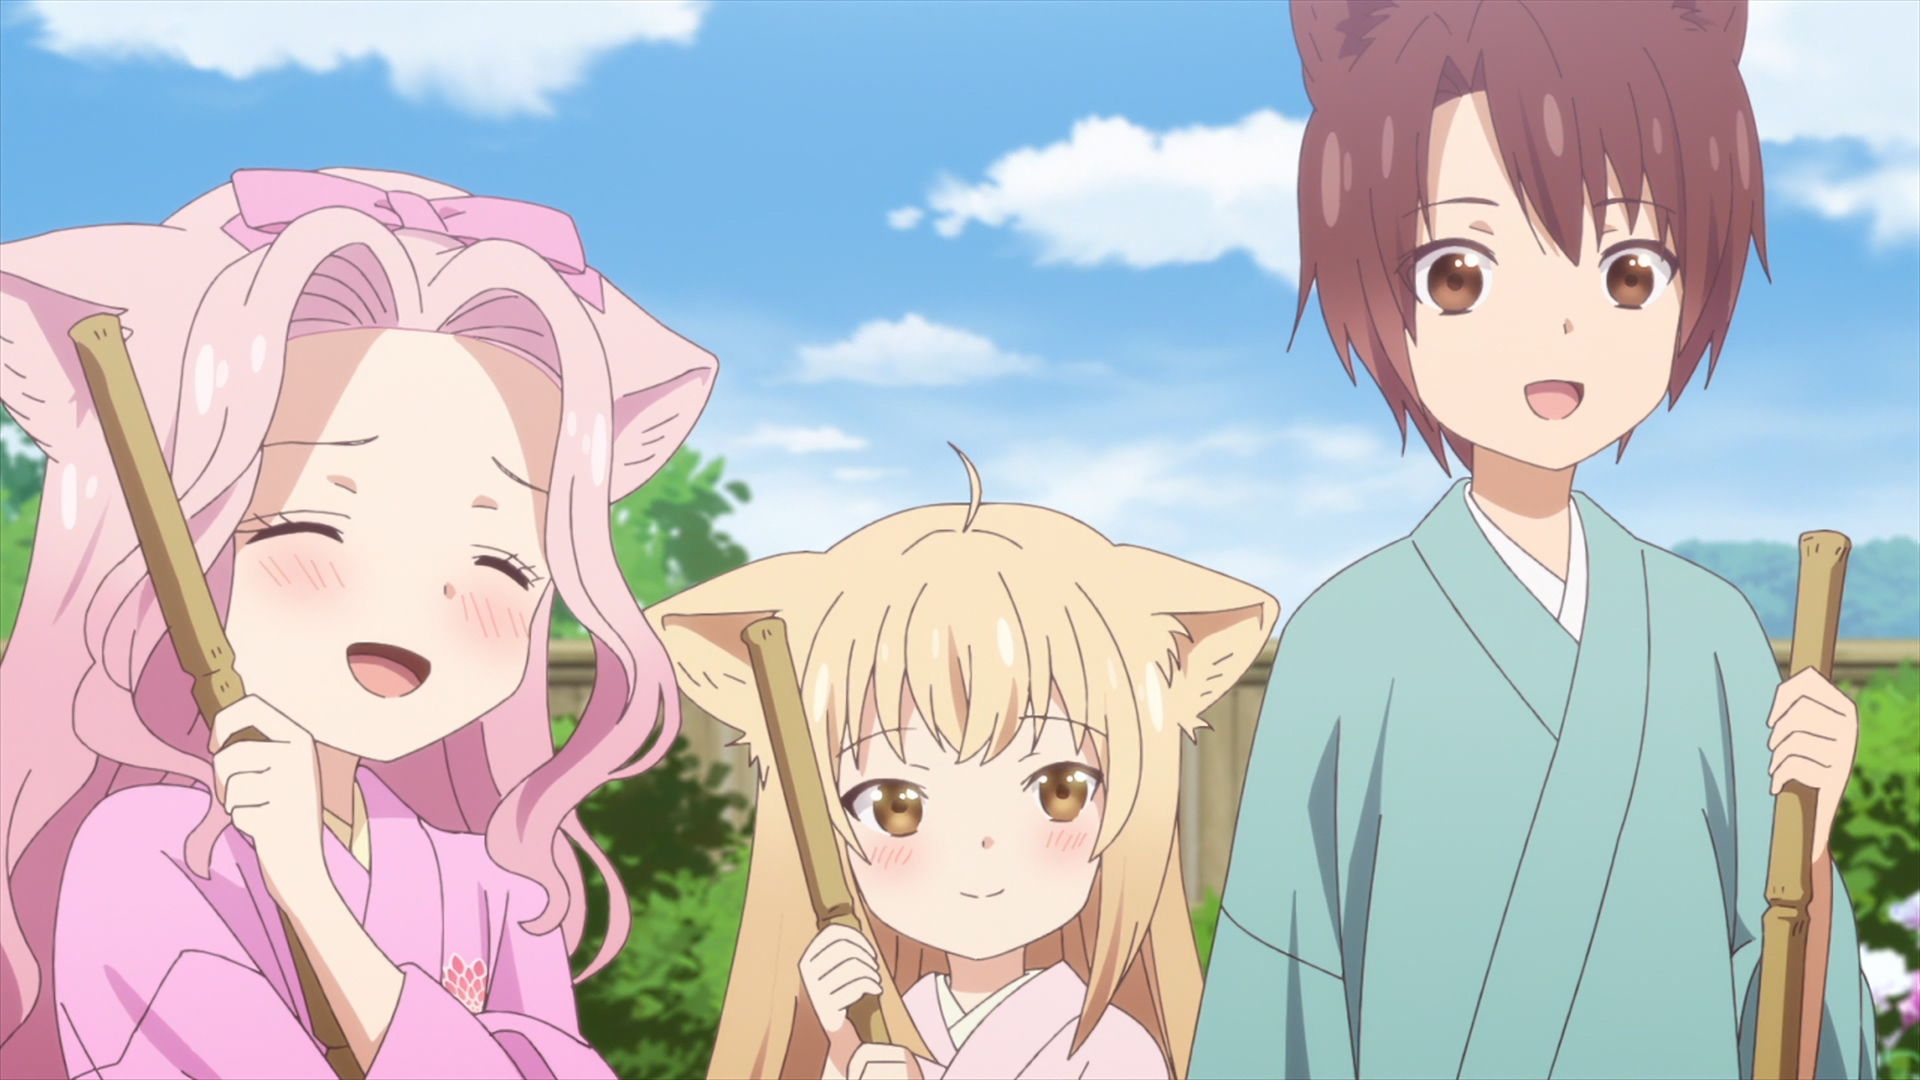枣: (1187, 1, 1876, 1080)
柚: (645, 443, 1280, 1080)
莲: (1, 167, 717, 1080)
